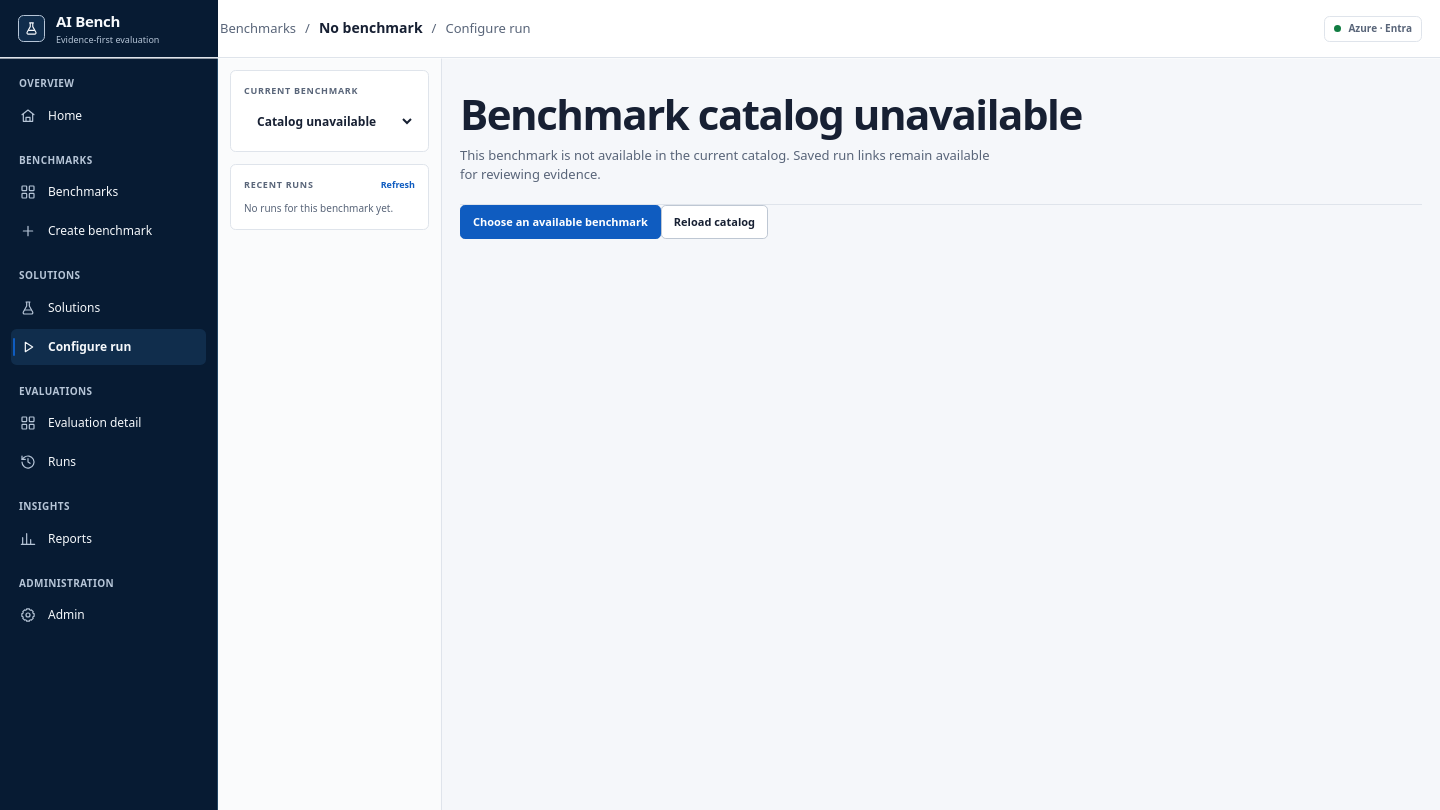
Scenario: catalog presentation scope › does not offer hidden benchmark services from an explicit setup bookmark
This screenshot has width=1440, height=810.
Expected: the heading "Benchmark catalog unavailable" is shown, [460,90,1082,139]
Step 1. Click the button "Choose an available benchmark" → (560, 222), box [460,205,661,239]
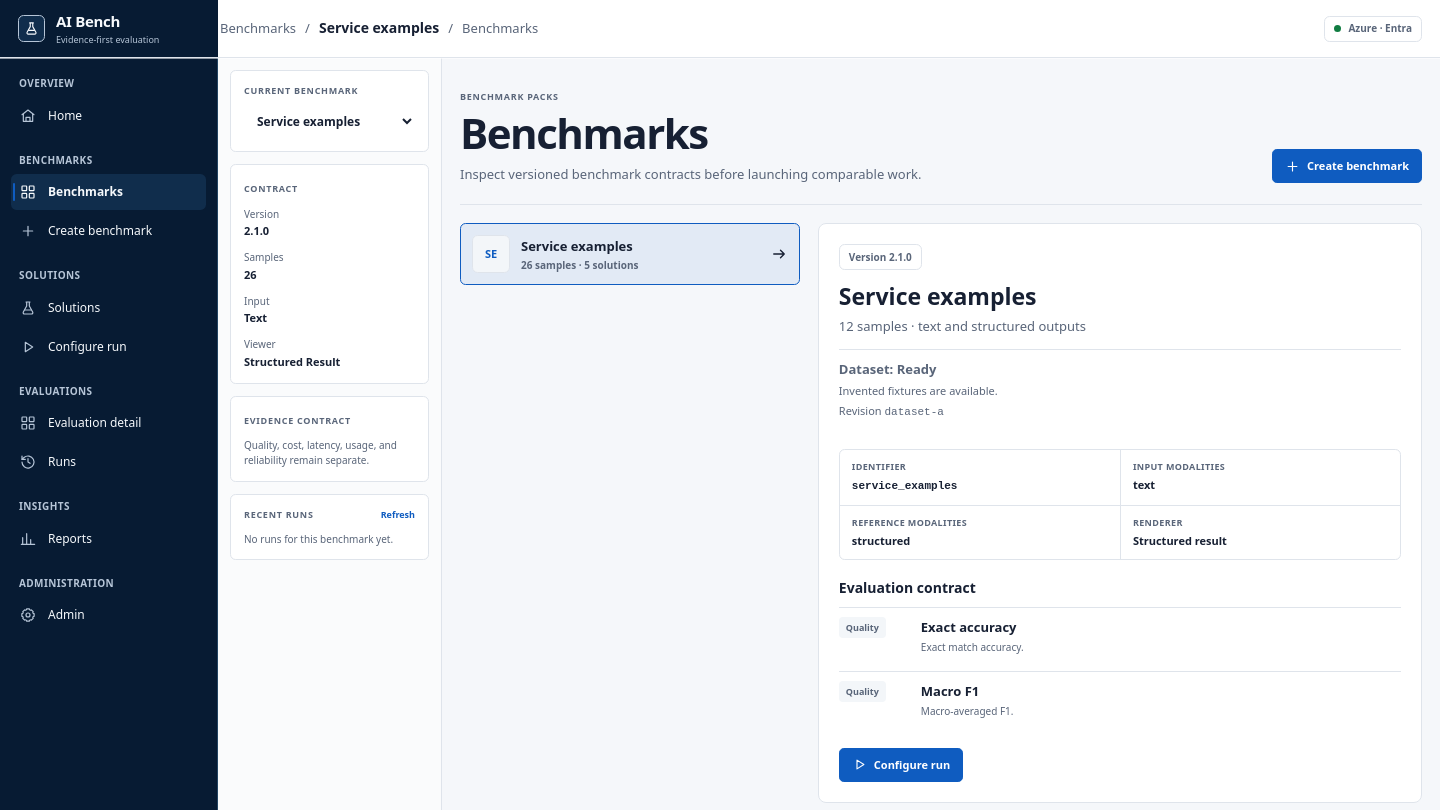
Now the heading "Benchmarks" is shown, box [460,104,708,161]
